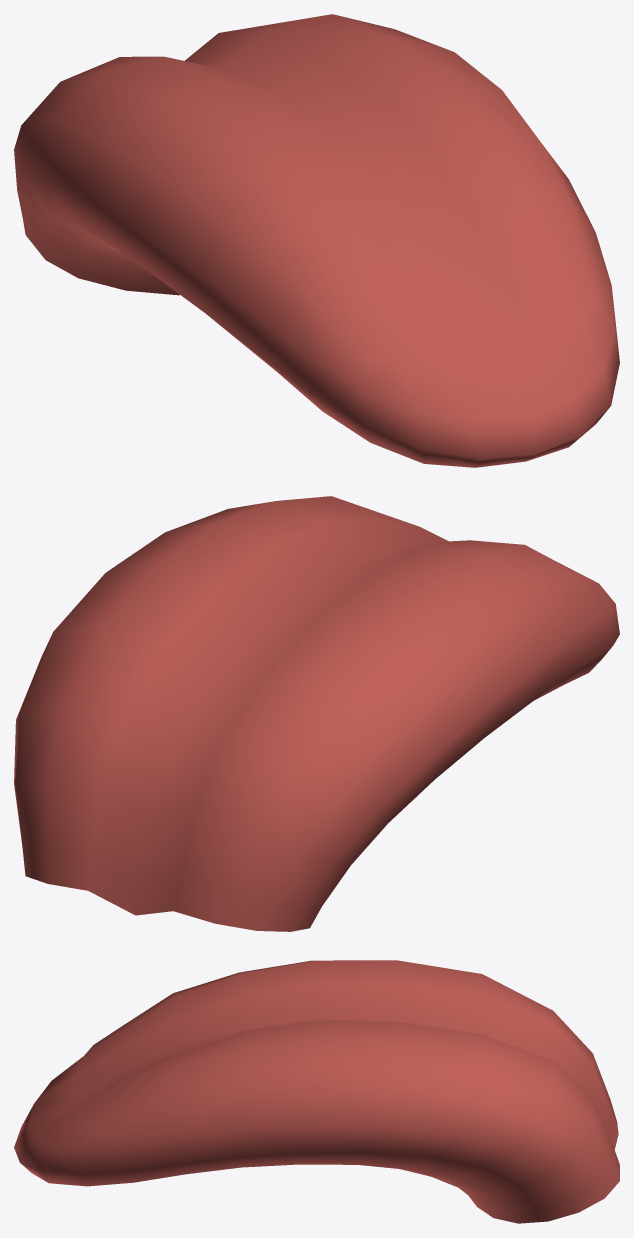
The model's file is tongue.glb.
The picture shows the model from 3 angles, top to bottom: view 1: azimuth 30°, elevation 25°; view 2: azimuth 150°, elevation 25°; view 3: azimuth 270°, elevation 25°; orthographic projection. The views are drawn at different scales.
Visible parts, largest first — view 1: tongue_m; view 2: tongue_m; view 3: tongue_m.
Part boxes in pixels (x1=…): tongue_m: x1=14, y1=14, x2=619, y2=467; tongue_m: x1=14, y1=496, x2=619, y2=931; tongue_m: x1=14, y1=960, x2=619, y2=1223.
Bounding box in the file's own units: 2.72 × 1.7 × 4.84.
